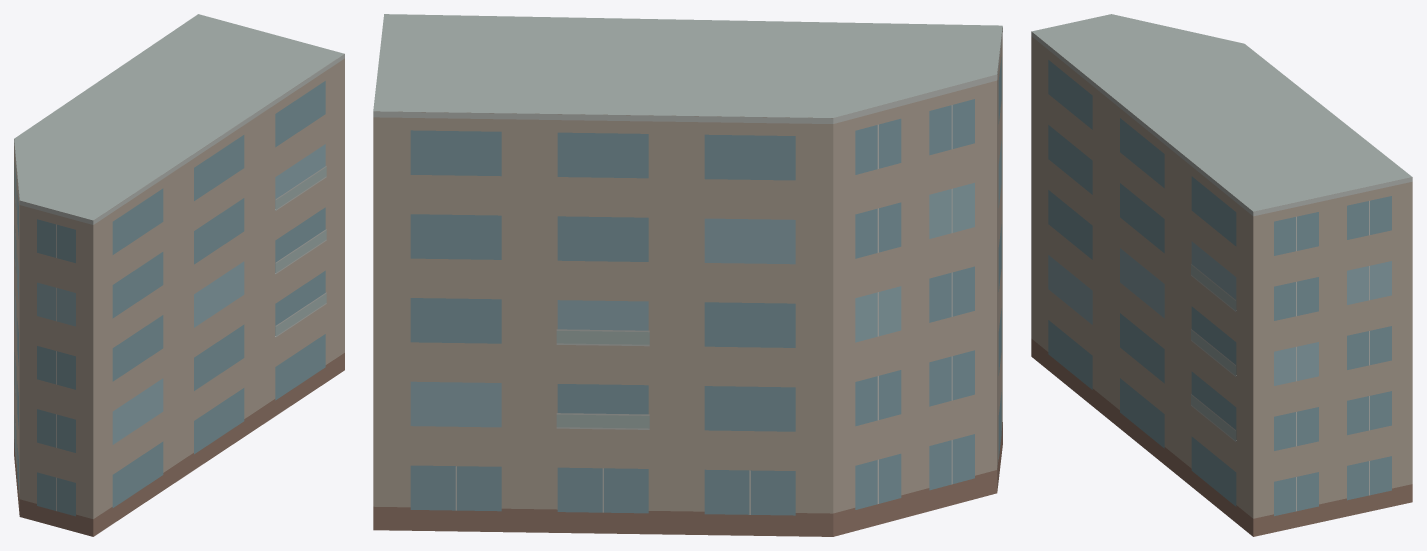
The model's file is survey-upis-32778802.glb.
3 views of the same model, side by side, from view 1: azimuth 30°, elevation 25°; view 2: azimuth 150°, elevation 25°; view 3: azimuth 270°, elevation 25° (orthographic). The views are drawn at different scales.
Visible parts, largest first — view 1: survey-upis-32778802.tmp; view 2: survey-upis-32778802.tmp; view 3: survey-upis-32778802.tmp.
Boxes of the visible parts, left/top/right/bottom form: survey-upis-32778802.tmp: left=14, top=14, right=344, bottom=536; survey-upis-32778802.tmp: left=373, top=14, right=1002, bottom=536; survey-upis-32778802.tmp: left=1031, top=14, right=1412, bottom=536.
Size of the model in its own units: 22.06 by 16.92 by 17.97.
